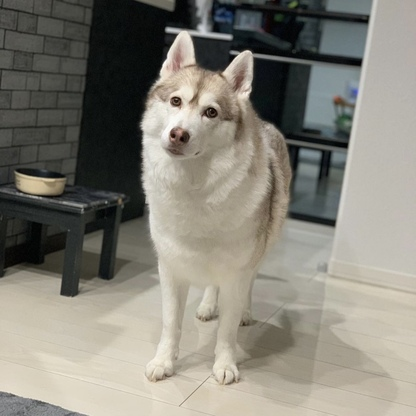husky: (133, 25, 295, 390)
